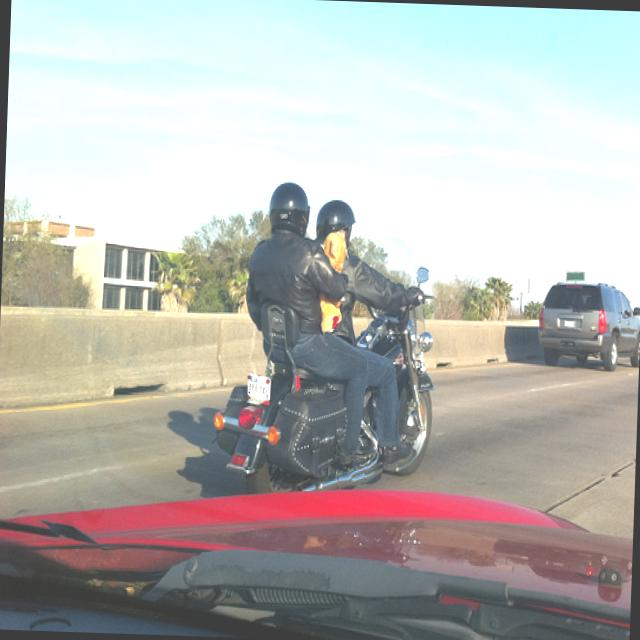Vehicle: (0, 473, 634, 640), (222, 238, 444, 502), (536, 280, 640, 372)
